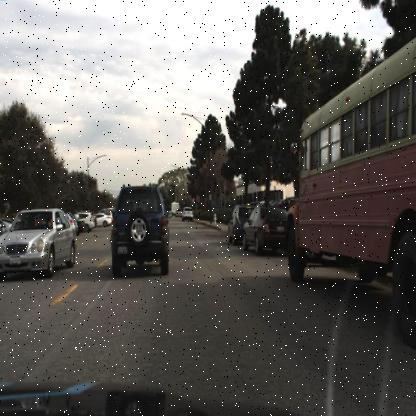car: (110, 183, 171, 278), (0, 207, 77, 281), (241, 205, 294, 252), (227, 204, 257, 246), (182, 206, 193, 221)
truck: (286, 47, 416, 311)
